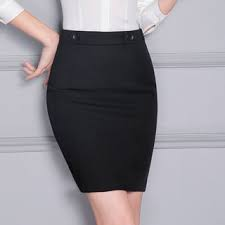F_tailored skirt: (40, 23, 168, 200)
